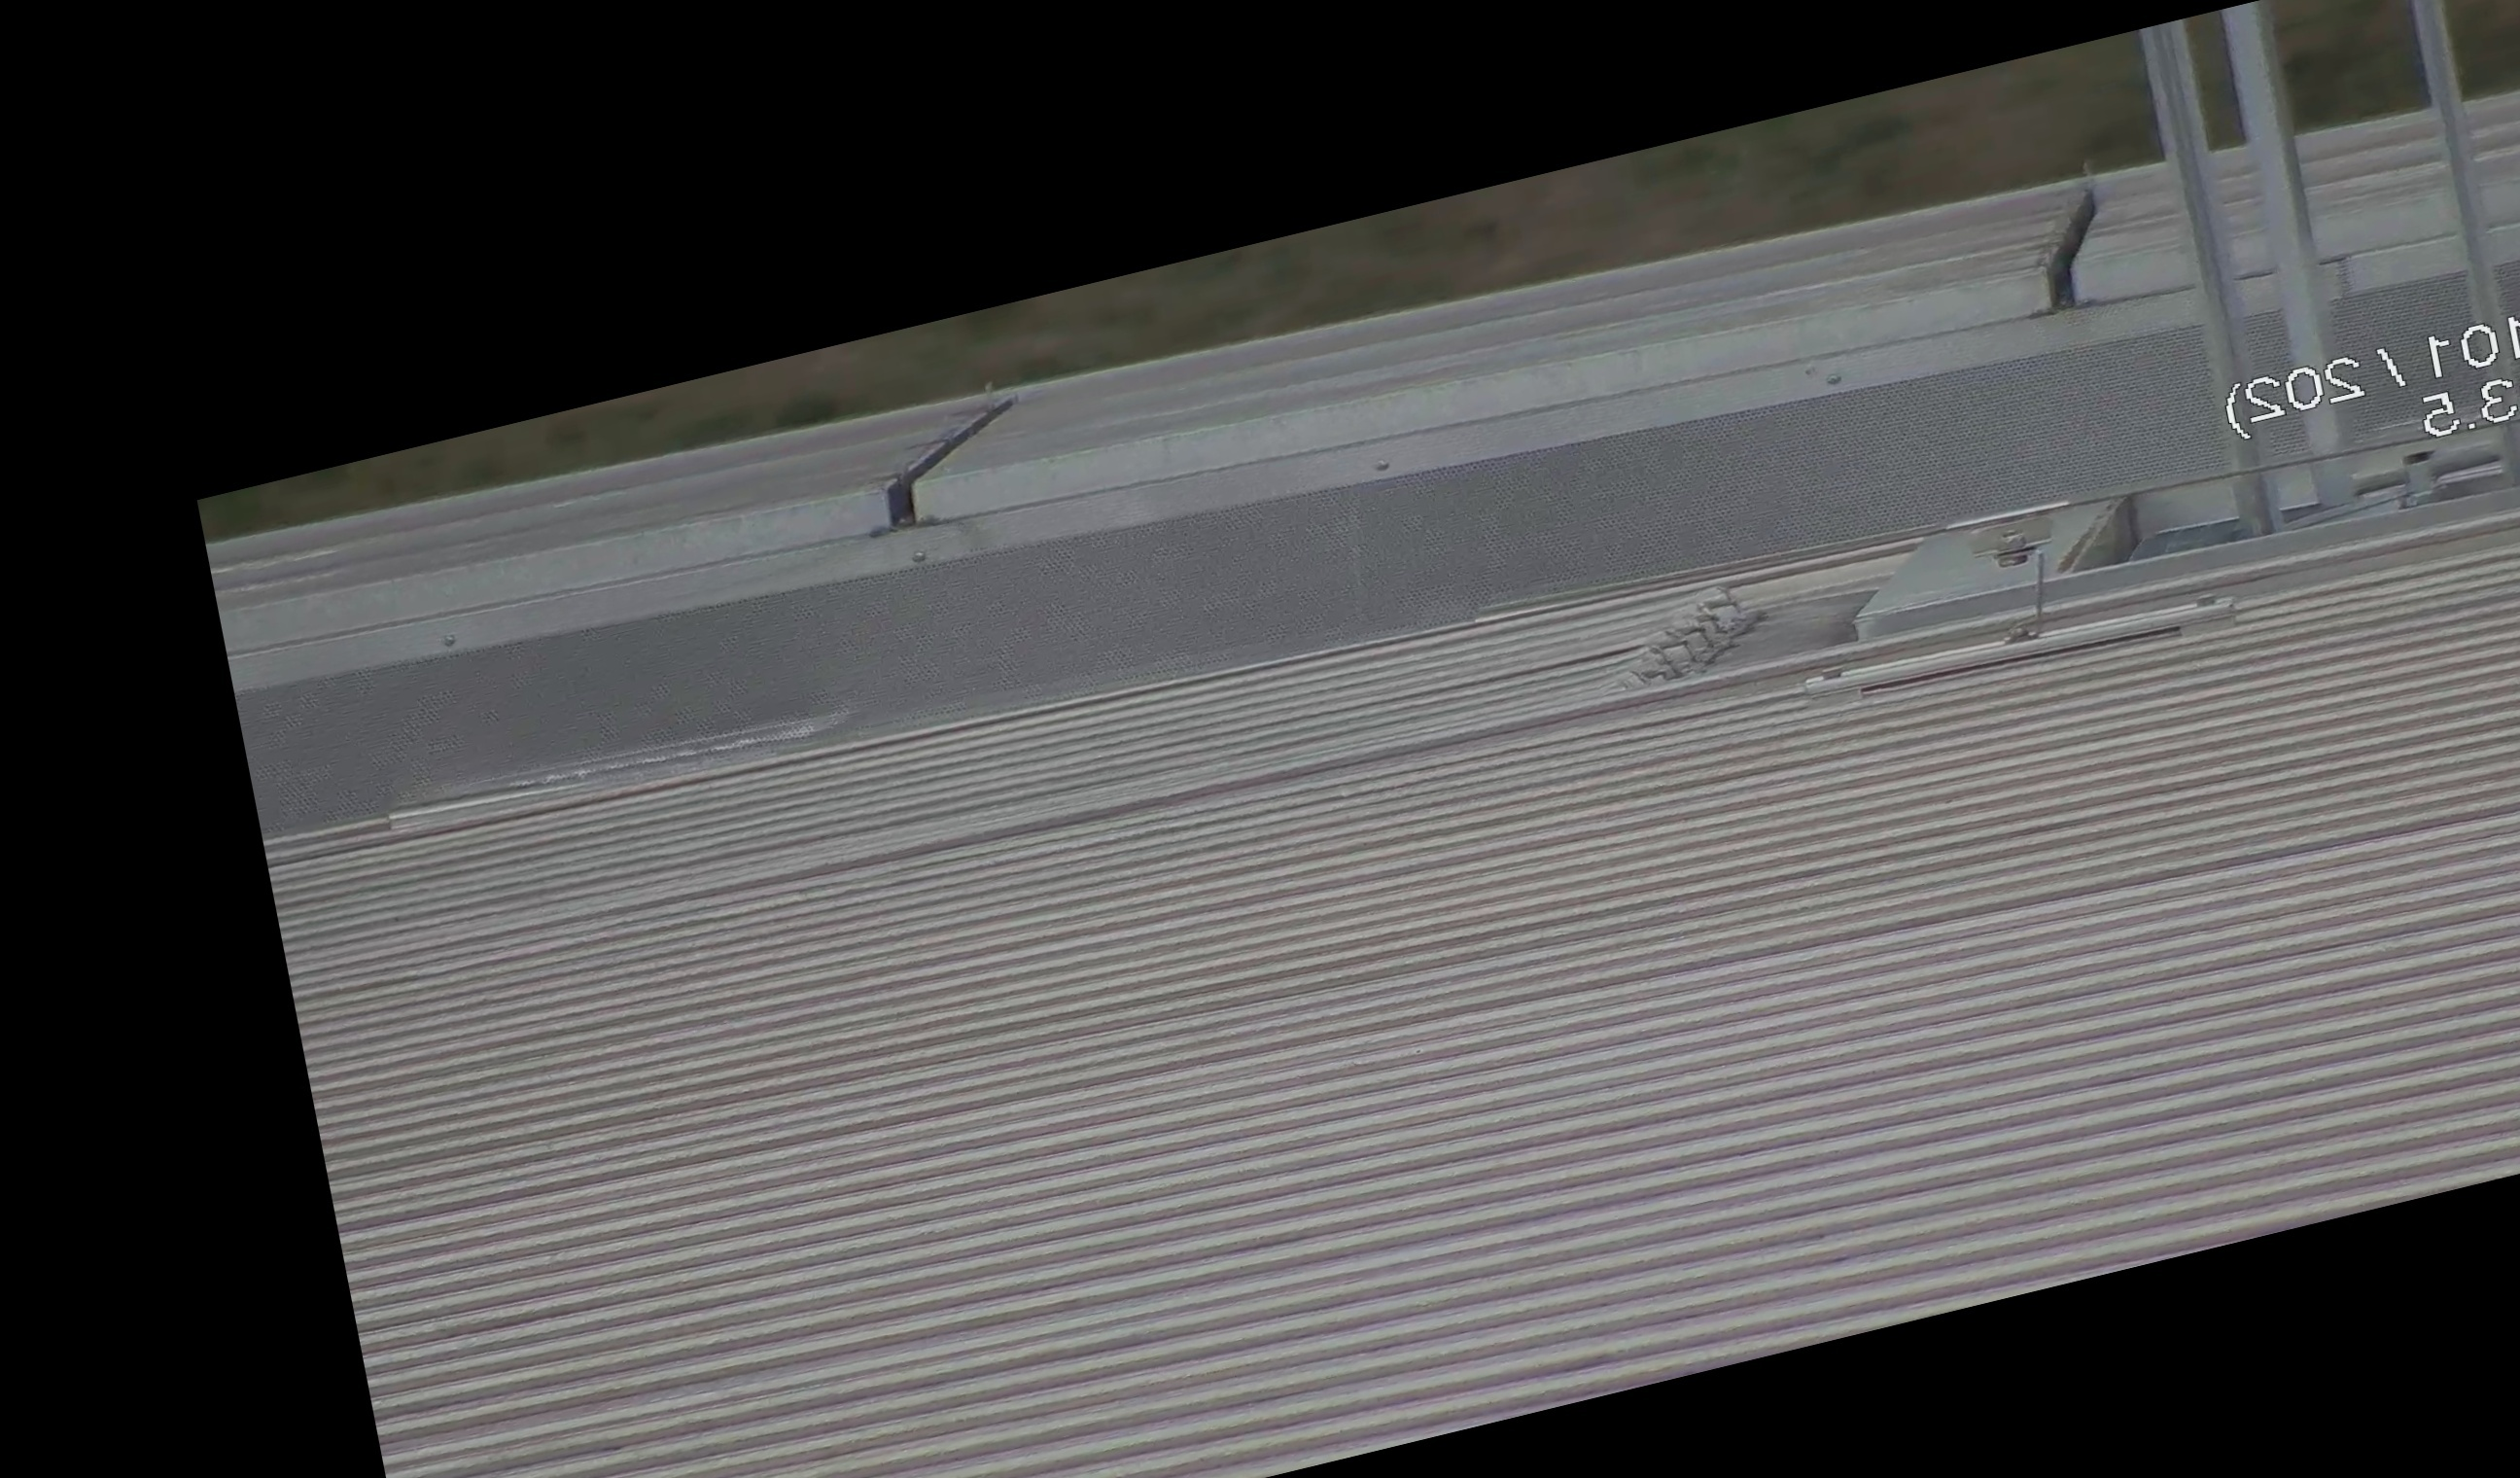Other: (2008, 155, 2158, 327)
